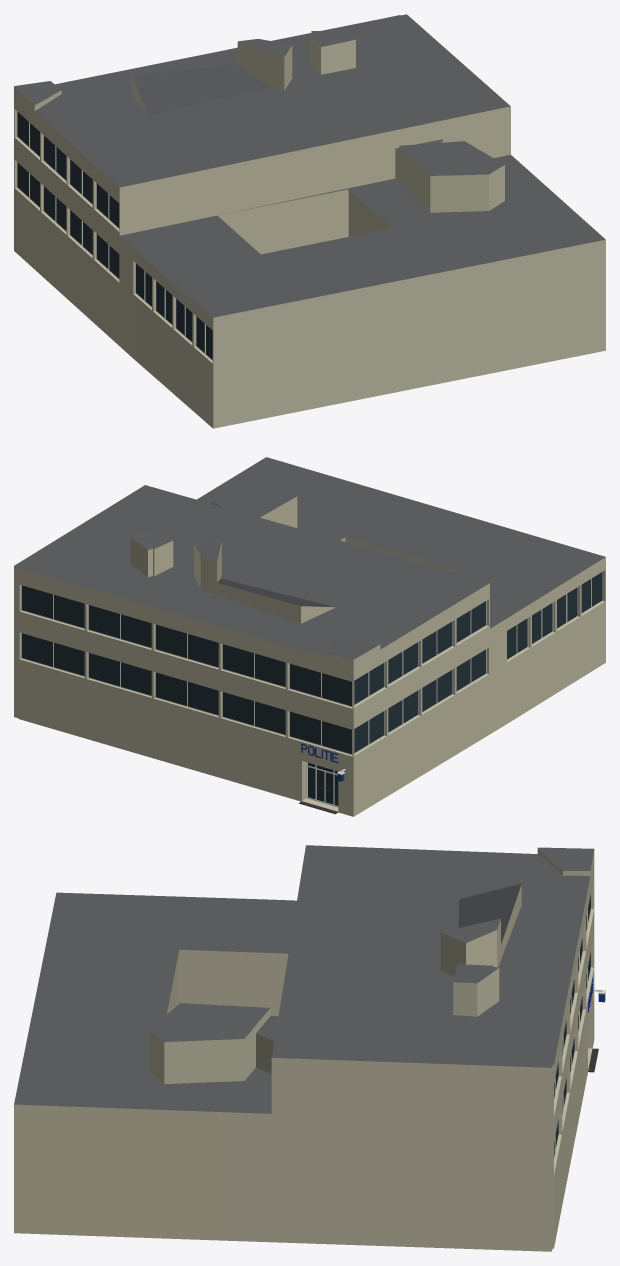
File: recipe-large-politie-zuid-de-pijp.glb
The picture shows the model from 3 angles, top to bottom: view 1: azimuth 30°, elevation 25°; view 2: azimuth 150°, elevation 25°; view 3: azimuth 270°, elevation 25°; orthographic projection. The views are drawn at different scales.
Visible parts, largest first — view 1: politie-zuid-de-pijp; view 2: politie-zuid-de-pijp; view 3: politie-zuid-de-pijp.
Boxes of the visible parts, x1=… form: politie-zuid-de-pijp: x1=14, y1=14, x2=605, y2=428; politie-zuid-de-pijp: x1=14, y1=457, x2=605, y2=816; politie-zuid-de-pijp: x1=14, y1=845, x2=605, y2=1251.
Size of the model in its own units: 30.26 by 13.79 by 32.84.
